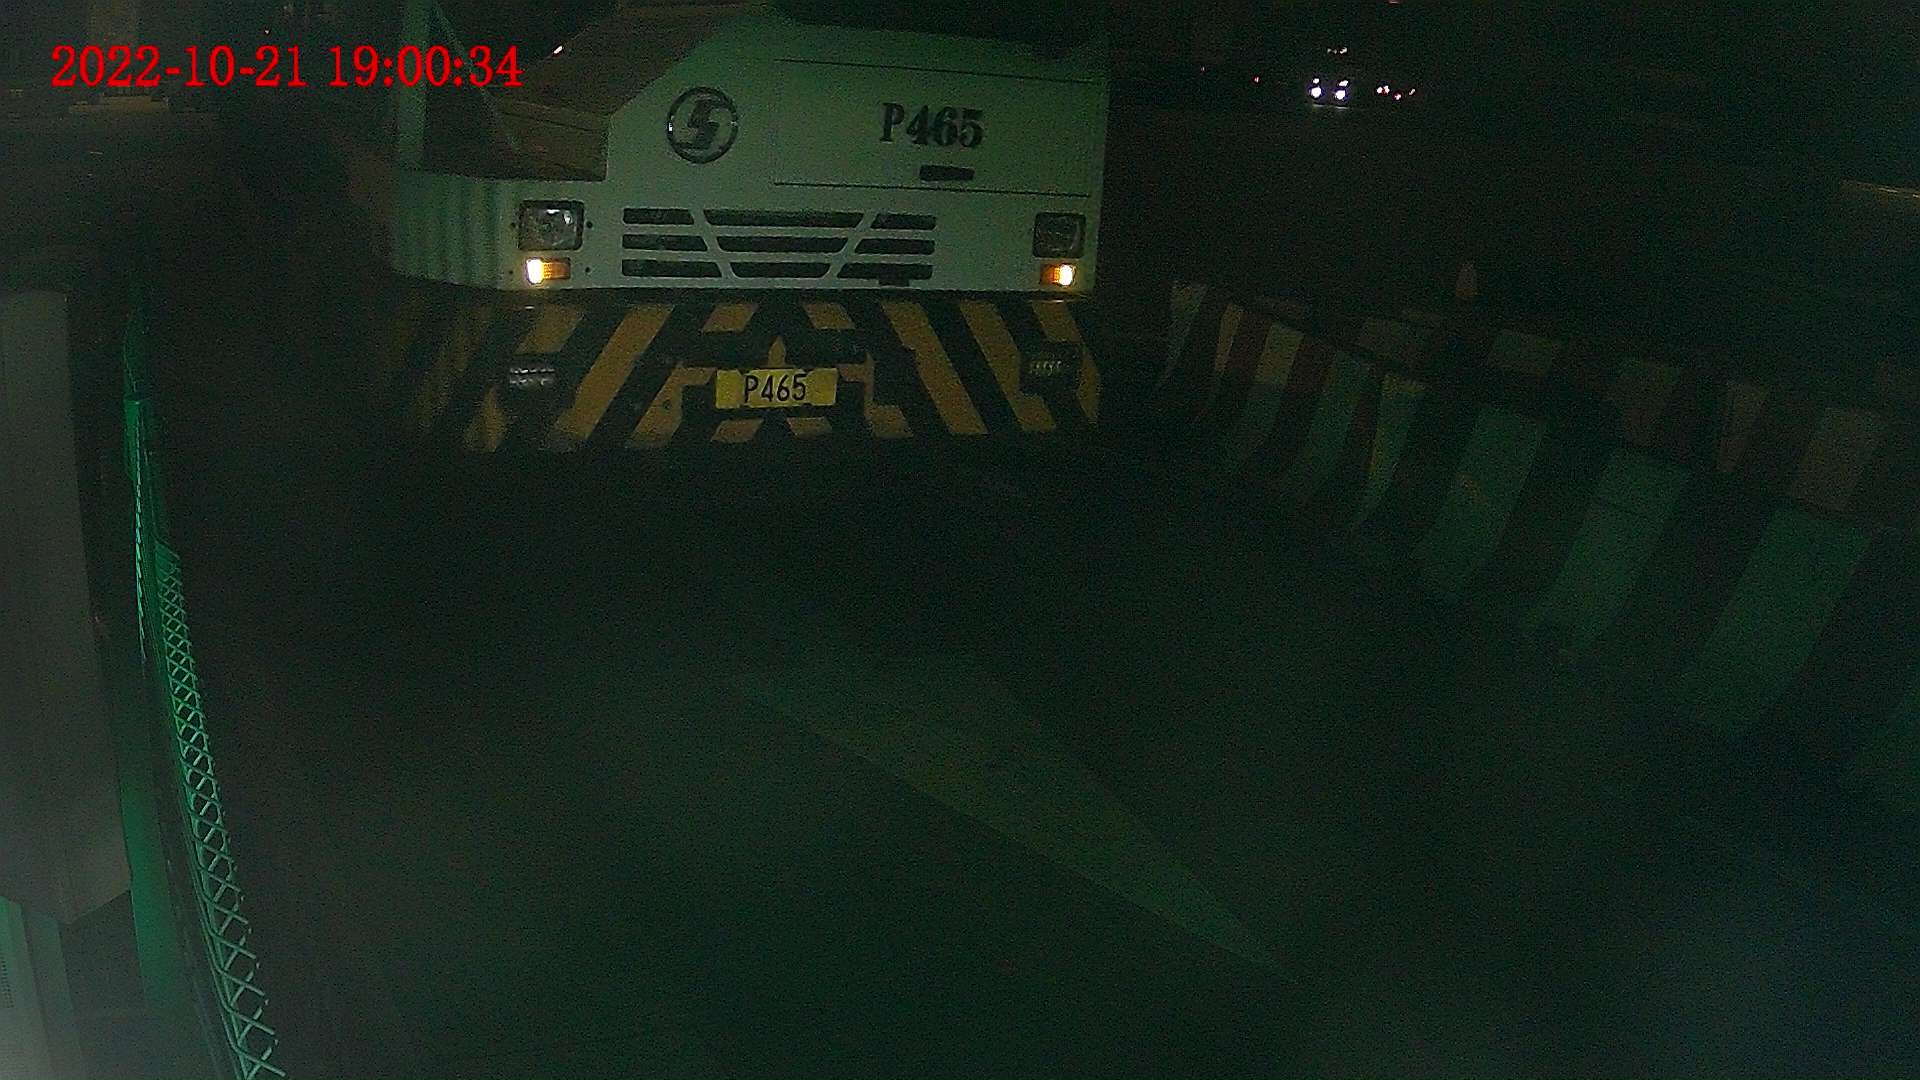head: (360, 2, 1114, 443)
plate: (712, 373, 834, 399)
